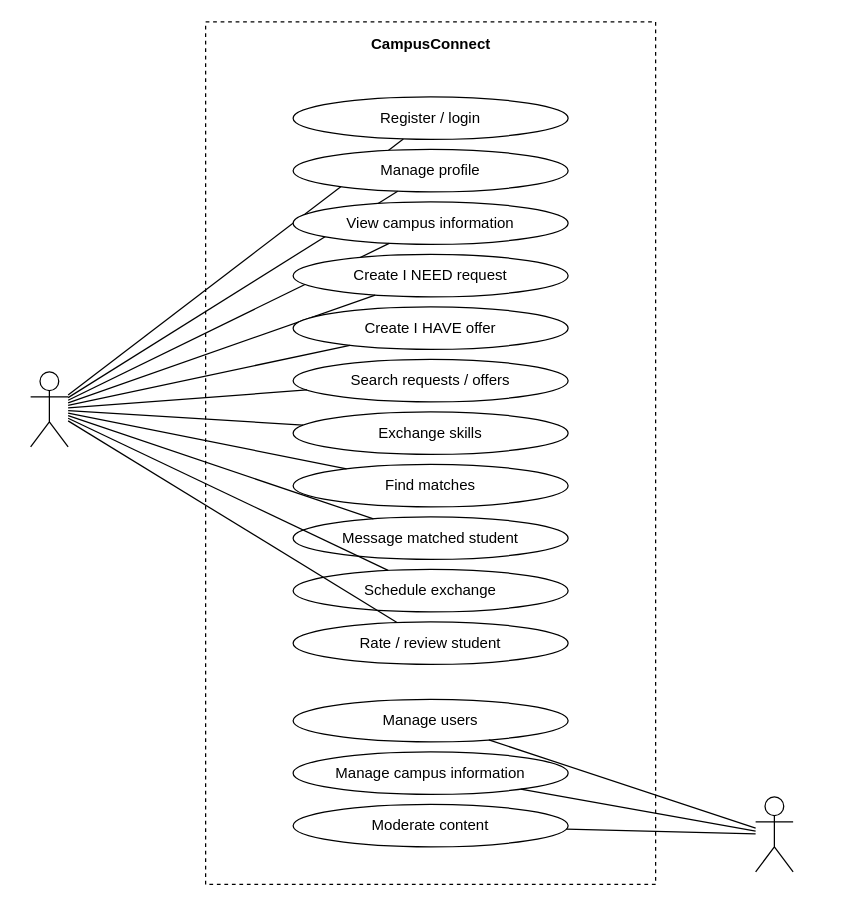
Some shapes in this 845 by 920 pixel diagram are drawn without their labels. Here are the shapes that lost their labels. From the top down, the centre of each, then its label:
the point at 48,409: Student
the point at 773,834: Administrator
